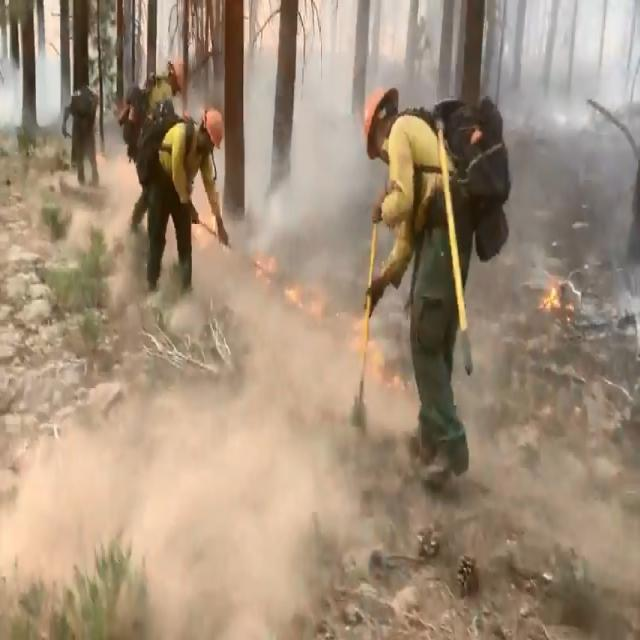Fire: (194, 194, 408, 393), (536, 272, 578, 324)
